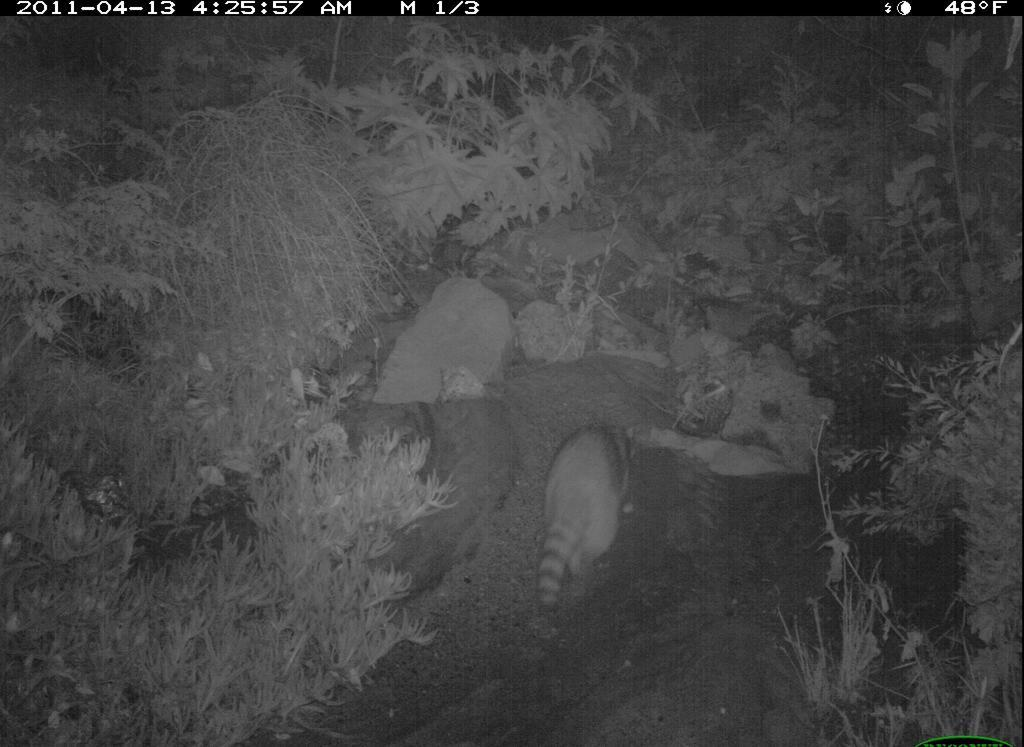raccoon: (525, 417, 649, 617)
